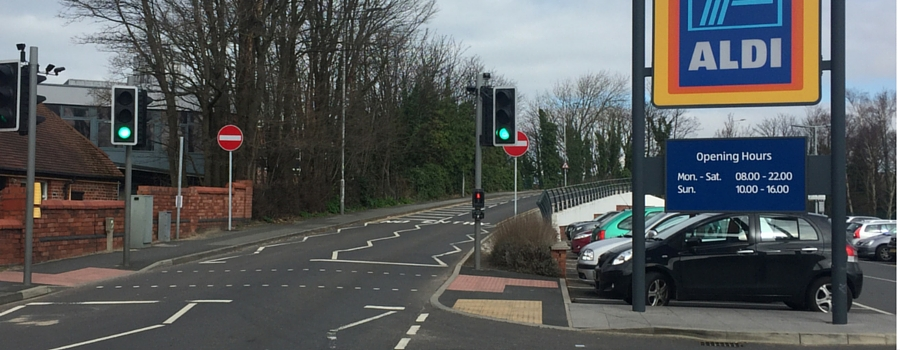No_entry: (216, 124, 244, 152)
